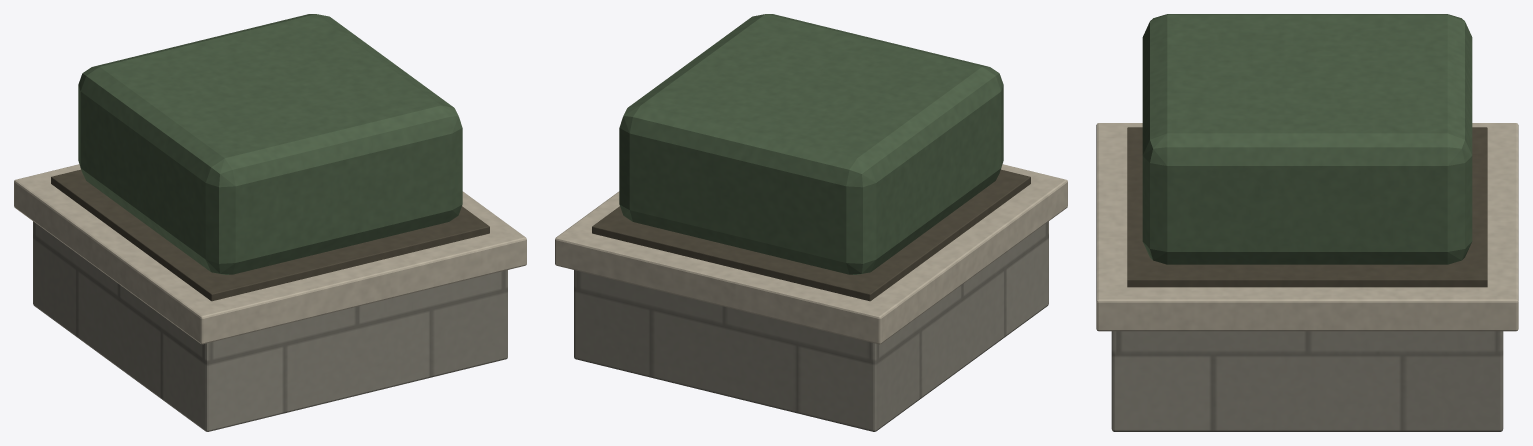
File: Planter.fbx
3 renders of one model, left to right at view 1: azimuth 30°, elevation 25°; view 2: azimuth 150°, elevation 25°; view 3: azimuth 270°, elevation 25°, orthographic. The views are drawn at different scales.
Parts seen in each view (by area): view 1: Planter.001; view 2: Planter.001; view 3: Planter.001.
Part boxes in pixels (left/top/right/bottom): Planter.001: left=14, top=14, right=526, bottom=431; Planter.001: left=555, top=14, right=1067, bottom=431; Planter.001: left=1096, top=14, right=1518, bottom=431.
Bounding box in the file's own units: 2.05 × 1.48 × 2.05.
